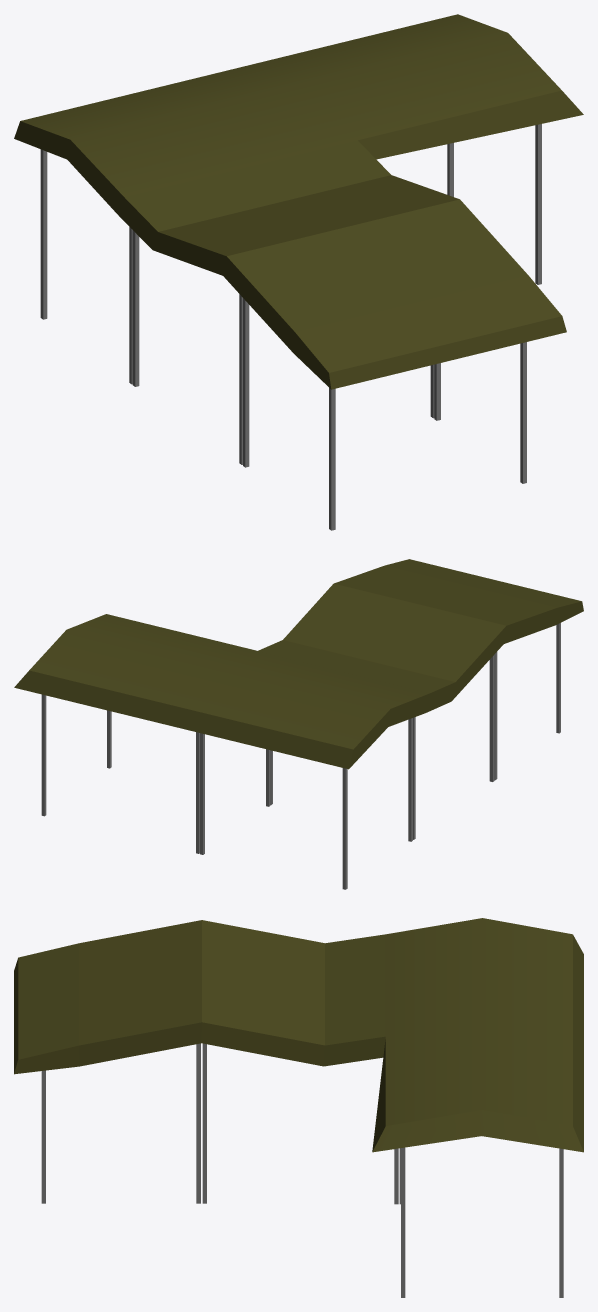
The model's file is SM_Tent2.fbx.
The picture shows the model from 3 angles, top to bottom: view 1: azimuth 30°, elevation 25°; view 2: azimuth 150°, elevation 25°; view 3: azimuth 270°, elevation 25°; orthographic projection. The views are drawn at different scales.
Parts seen in each view (by area): view 1: Tent2; view 2: Tent2; view 3: Tent2.
Boxes of the visible parts, <box> form: Tent2: <box>14,14,583,530</box>; Tent2: <box>14,559,583,889</box>; Tent2: <box>14,918,583,1297</box>.
Bounding box in the file's own units: 323 × 147 × 393.
